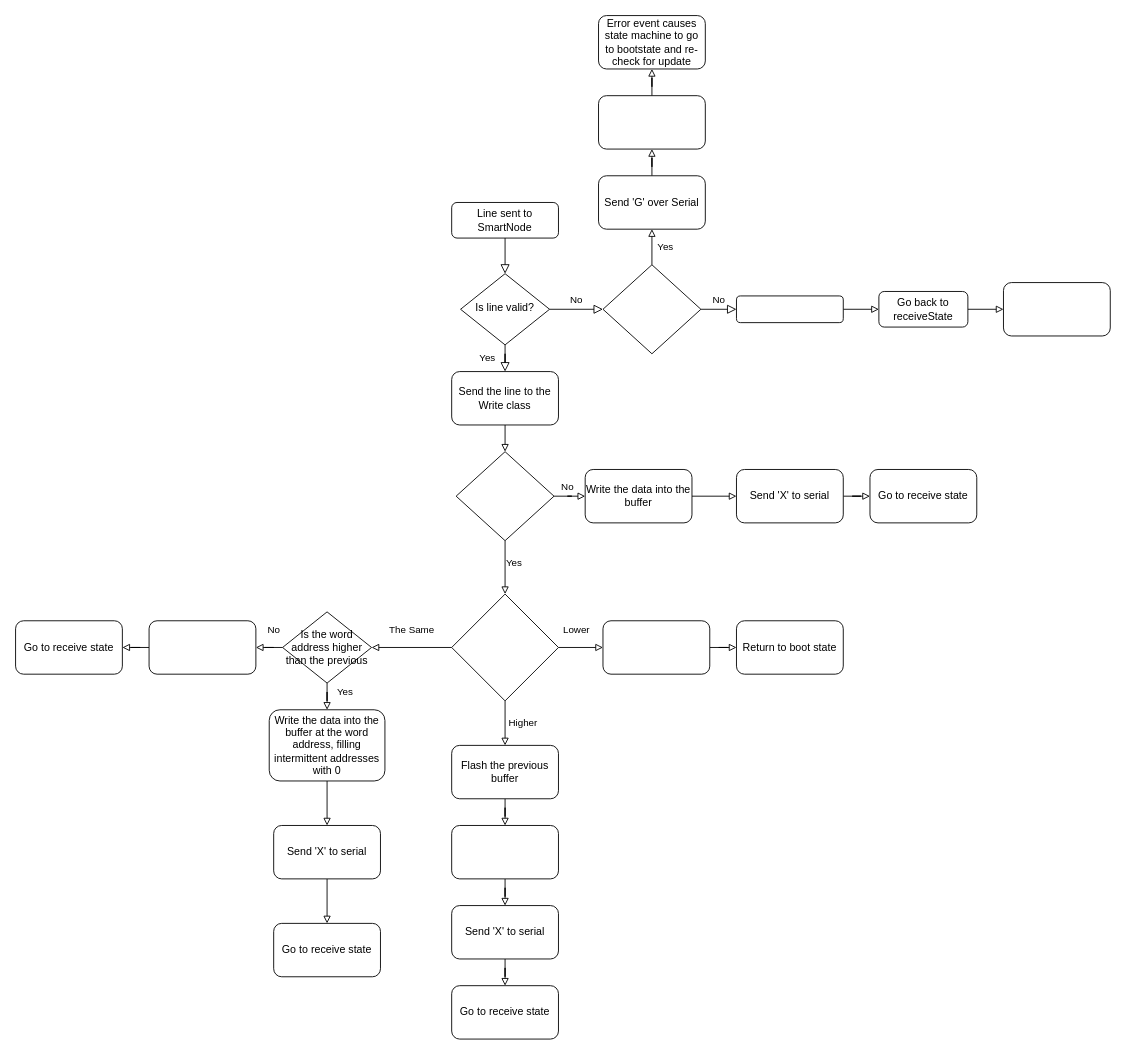
The diagram is 1126 pixels wide and 1055 high, and some of its shapes have lost their labels. Here are the shapes that lost their labels. From the top down, the centre of each, then its label:
[651,122]: Raise error event
[651,309]: Has this line been attempted before?
[789,309]: Send 'W' along serial
[1056,309]: When 'W' is received by the script it resends the last line
[504,496]: Is there already data in the buffer?
[202,647]: Send 'W' to serial
[504,647]: Is the page address:
[656,647]: Send 'G' to serial
[504,852]: Put the new page into the new buffer
